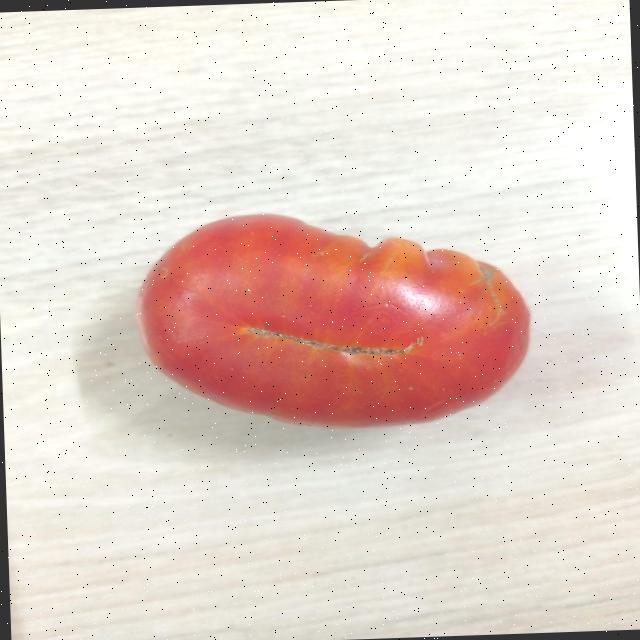Tomato: (130, 198, 540, 436)
